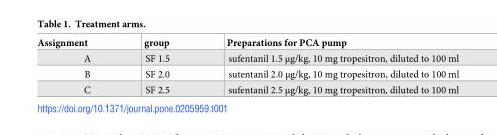table: (36, 37, 458, 95)
table column: (197, 37, 458, 95), (116, 37, 197, 95), (36, 37, 116, 95)
table column header: (36, 37, 458, 49)
table row: (36, 49, 458, 65), (36, 65, 458, 81), (36, 81, 458, 95), (36, 37, 458, 49)
